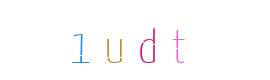1: (40, 0, 120, 80)
D: (95, 0, 175, 80)
T: (116, 0, 196, 80)
U: (74, 0, 154, 80)
